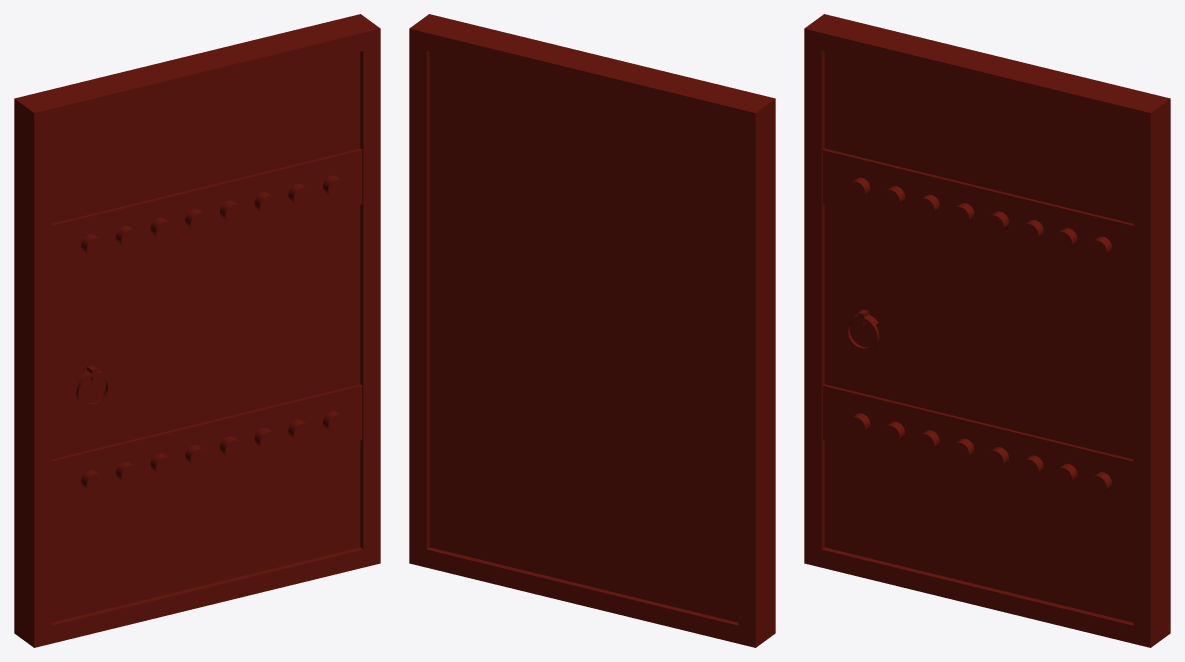
The model's file is ShopDoor.FBX.
3 views of the same model, side by side, from view 1: azimuth 30°, elevation 25°; view 2: azimuth 150°, elevation 25°; view 3: azimuth 330°, elevation 25° (orthographic).
Parts seen in each view (by area): view 1: ShopDoor; view 2: ShopDoor; view 3: ShopDoor.
Boxes of the visible parts, x1=… form: ShopDoor: x1=14, y1=14, x2=380, y2=647; ShopDoor: x1=409, y1=14, x2=775, y2=647; ShopDoor: x1=804, y1=14, x2=1170, y2=647.
Bounding box in the file's own units: 20 × 29.5 × 2.44.
